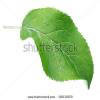Apple leaf: (19, 7, 97, 93)
